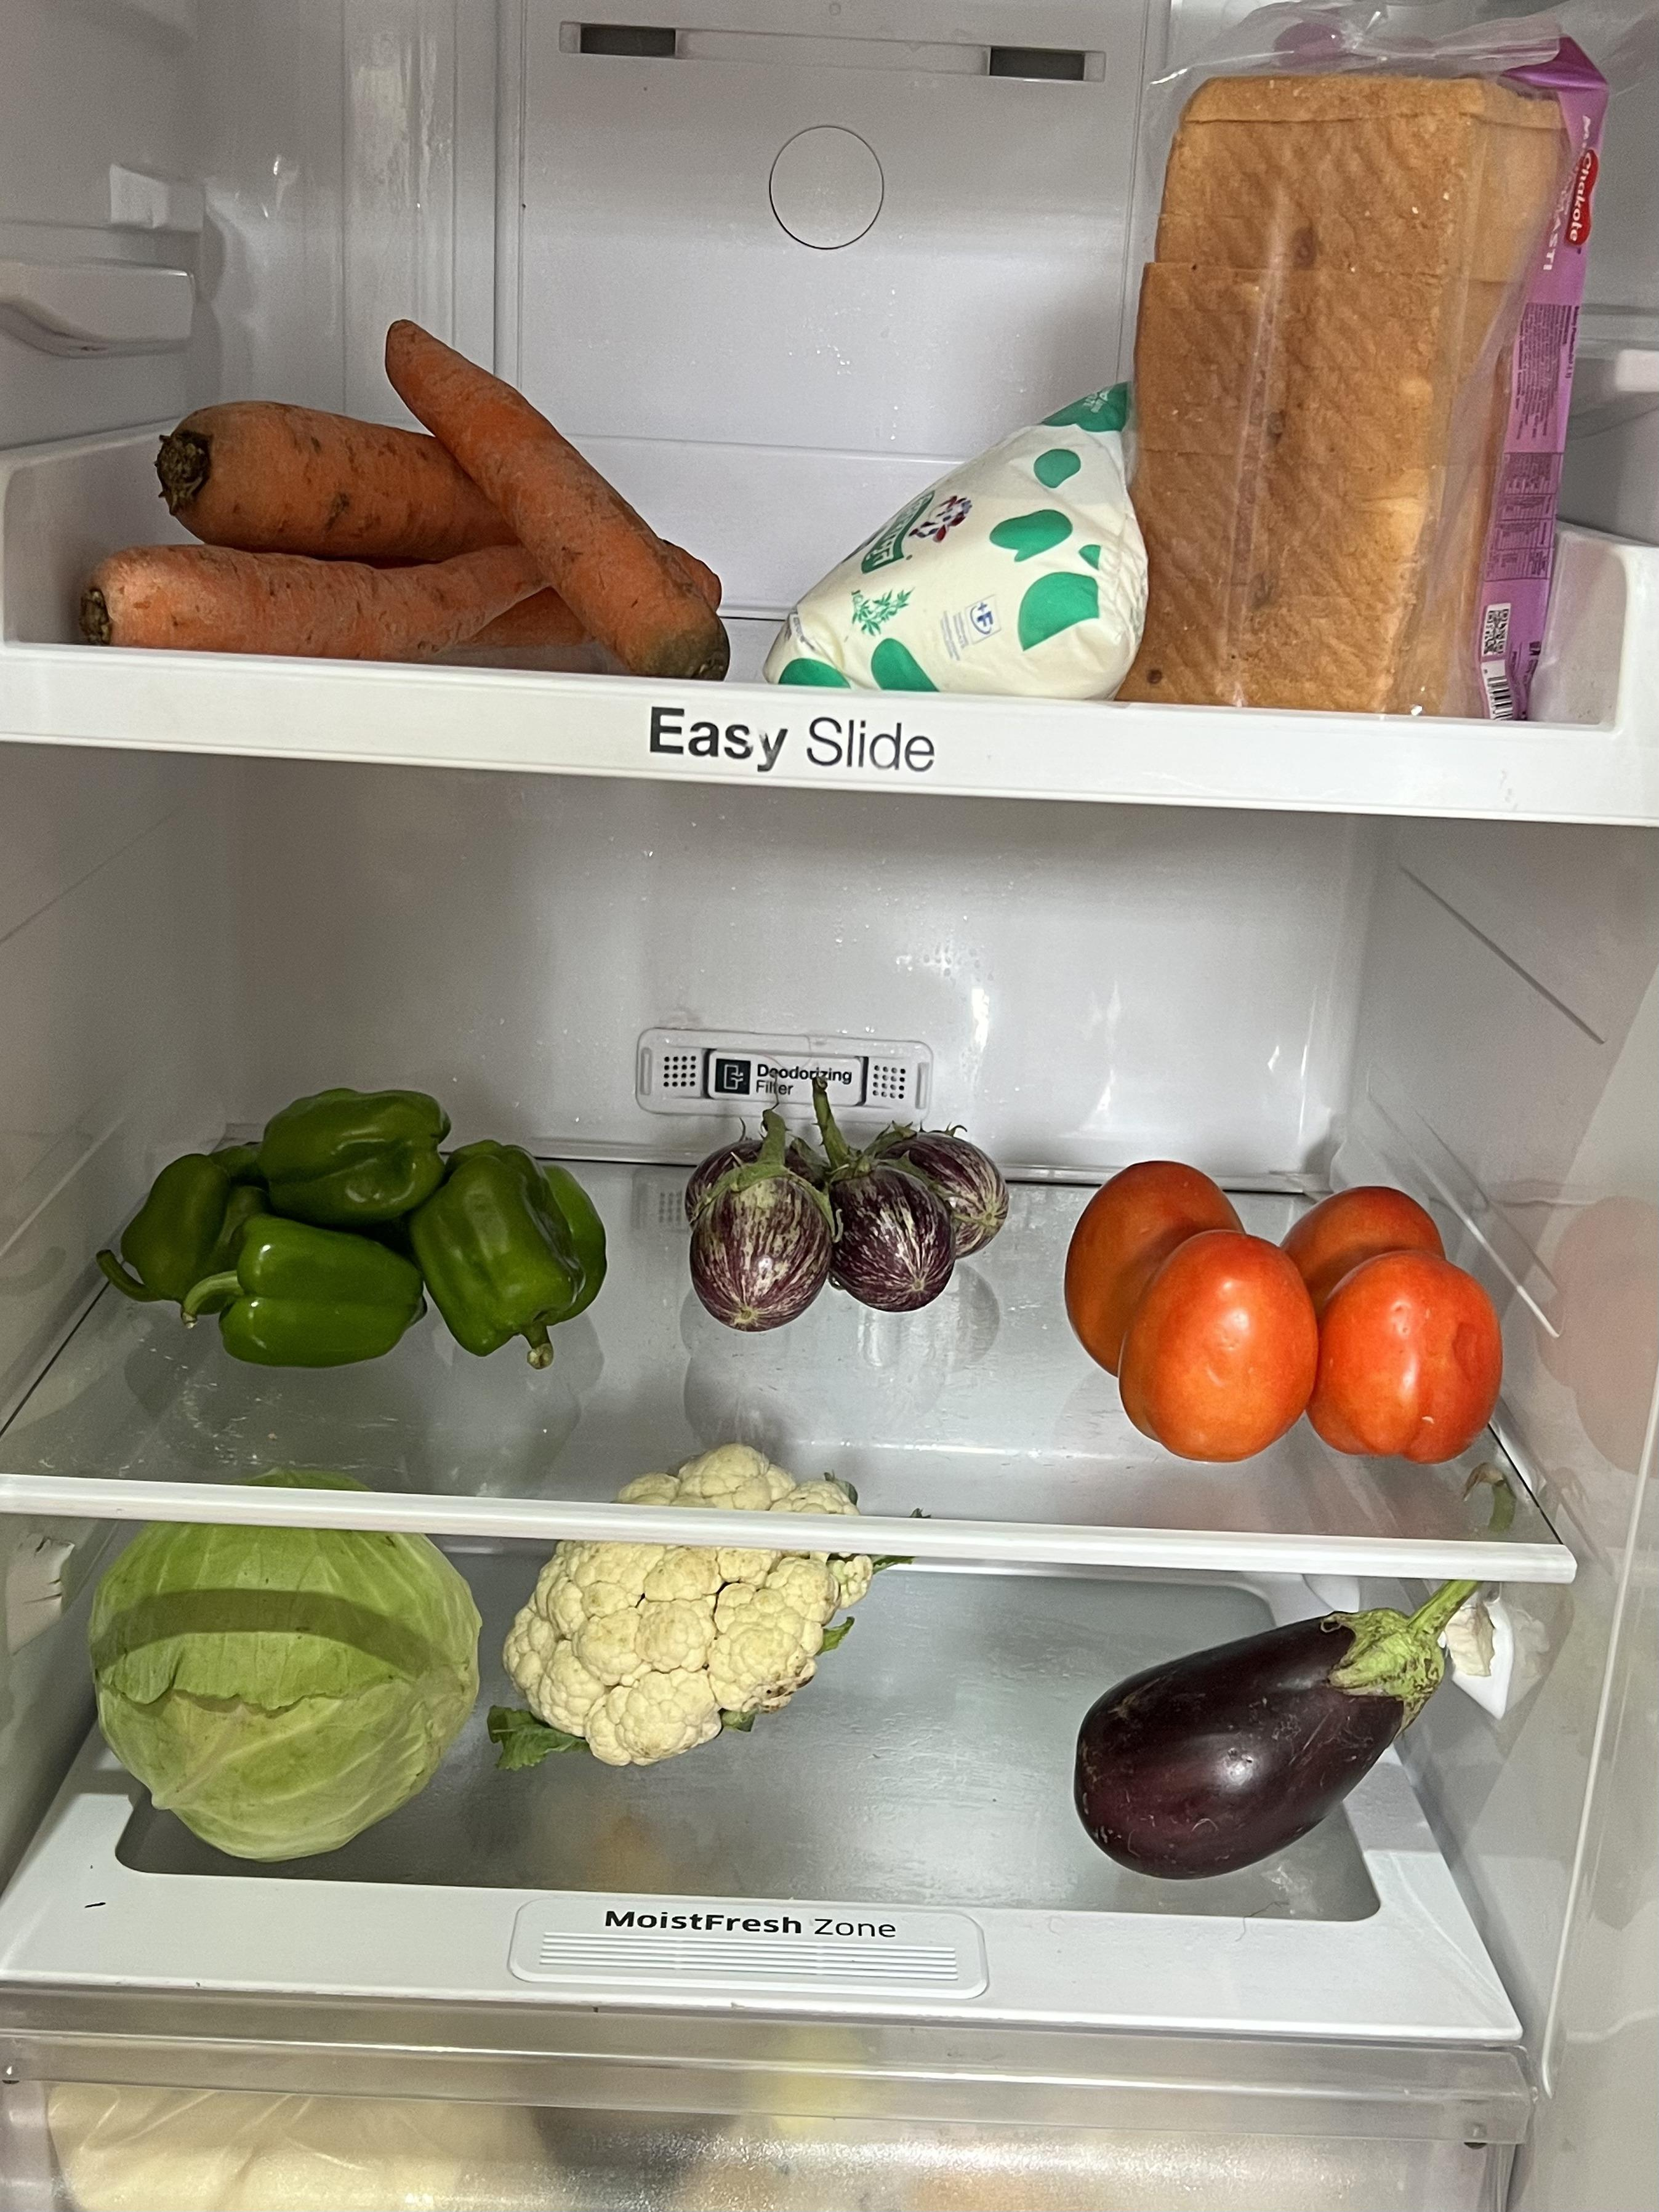bread: (1140, 51, 1596, 708)
bringal: (1070, 1586, 1427, 1883), (680, 1109, 1007, 1325)
cabbage: (84, 1518, 476, 1842)
capsicum: (115, 1079, 608, 1367)
carrots: (89, 373, 732, 662)
cauliflower: (512, 1438, 864, 1759)
milk: (775, 399, 1140, 690)
tomato: (1070, 1150, 1499, 1466)
